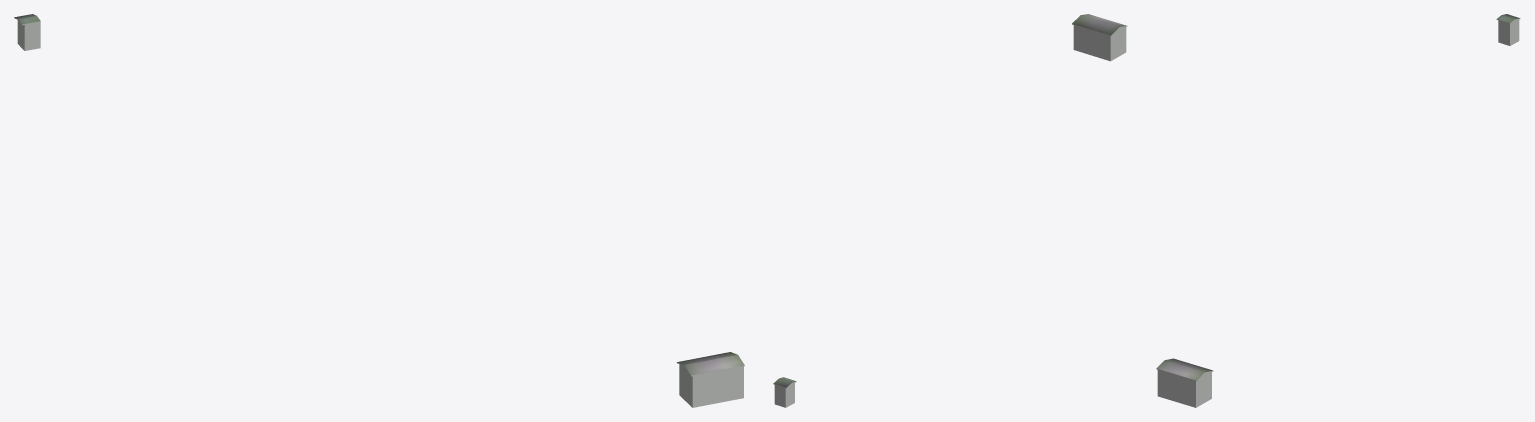
Rendered from LSMM_2_-1.glb.
3 views of the same model, side by side, from view 1: azimuth 30°, elevation 25°; view 2: azimuth 150°, elevation 25°; view 3: azimuth 330°, elevation 25° (orthographic). The views are drawn at different scales.
Parts seen in each view (by area): view 1: building_da7b5f2d64381027, building_e6eefd614e249351; view 2: building_da7b5f2d64381027, building_e6eefd614e249351, building_f322c343d7306e1d; view 3: building_da7b5f2d64381027, building_e6eefd614e249351, building_f322c343d7306e1d.
Part boxes in pixels (x1,y1,x2,y2): building_da7b5f2d64381027: [679, 364, 743, 407]; building_e6eefd614e249351: [676, 352, 744, 376]; building_da7b5f2d64381027: [1073, 25, 1126, 61]; building_e6eefd614e249351: [1072, 14, 1127, 36]; building_f322c343d7306e1d: [774, 382, 794, 407]; building_da7b5f2d64381027: [1157, 370, 1211, 407]; building_e6eefd614e249351: [1156, 358, 1213, 381]; building_f322c343d7306e1d: [1498, 19, 1519, 45].
Bounding box in the file's own units: 41.4 × 8.68 × 212.
Materials: 2 (1 with a texture image).
